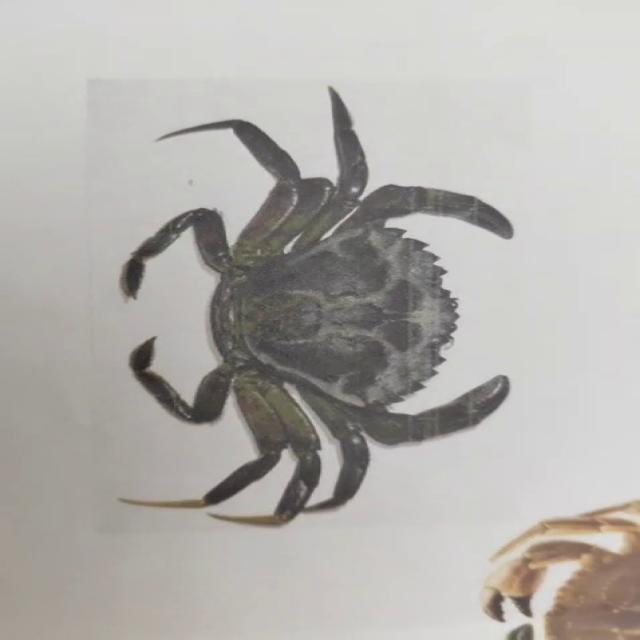egc: (121, 87, 513, 525)
